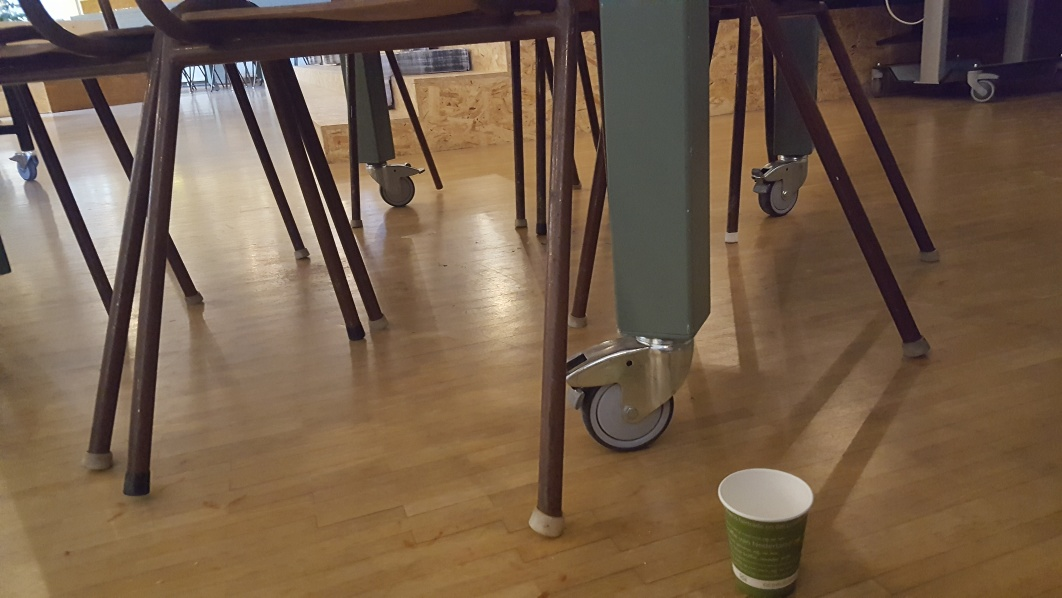cup: (717, 466, 817, 596)
